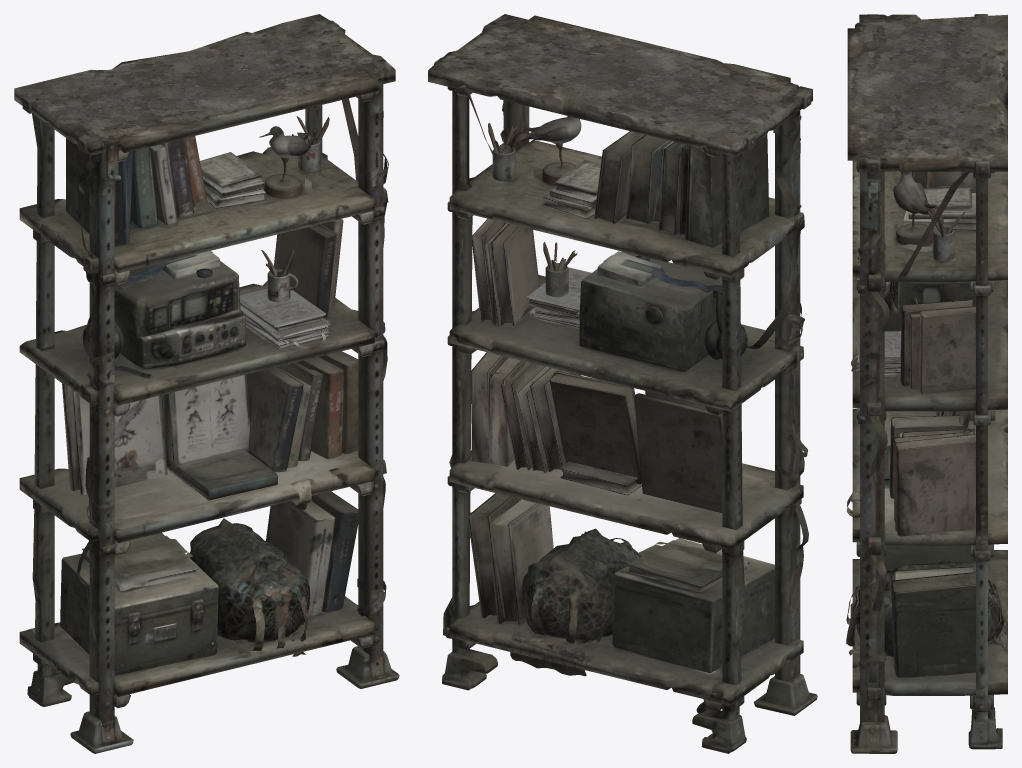
File: antique_shelf_3d_model.fbx
3 renders of one model, left to right at view 1: azimuth 30°, elevation 25°; view 2: azimuth 150°, elevation 25°; view 3: azimuth 270°, elevation 25°, orthographic. The views are drawn at different scales.
Parts seen in each view (by area): view 1: abad996c_3863_4da3_854d_23c34e784434; view 2: abad996c_3863_4da3_854d_23c34e784434; view 3: abad996c_3863_4da3_854d_23c34e784434.
Boxes of the visible parts, <box> form: abad996c_3863_4da3_854d_23c34e784434: <box>14,14,399,753</box>; abad996c_3863_4da3_854d_23c34e784434: <box>428,14,817,753</box>; abad996c_3863_4da3_854d_23c34e784434: <box>846,14,1007,753</box>.
Size of the model in its own units: 0.5386 by 0.9995 by 0.2466.
1 material, 1 textured.
